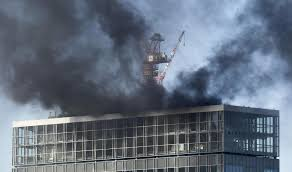smoke: (1, 1, 292, 136)
